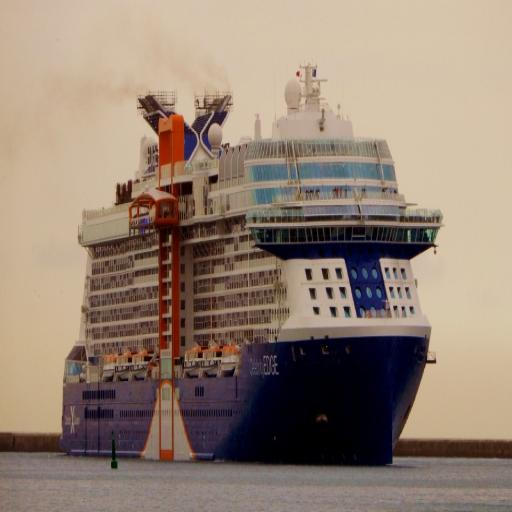cruises: (61, 63, 449, 480)
